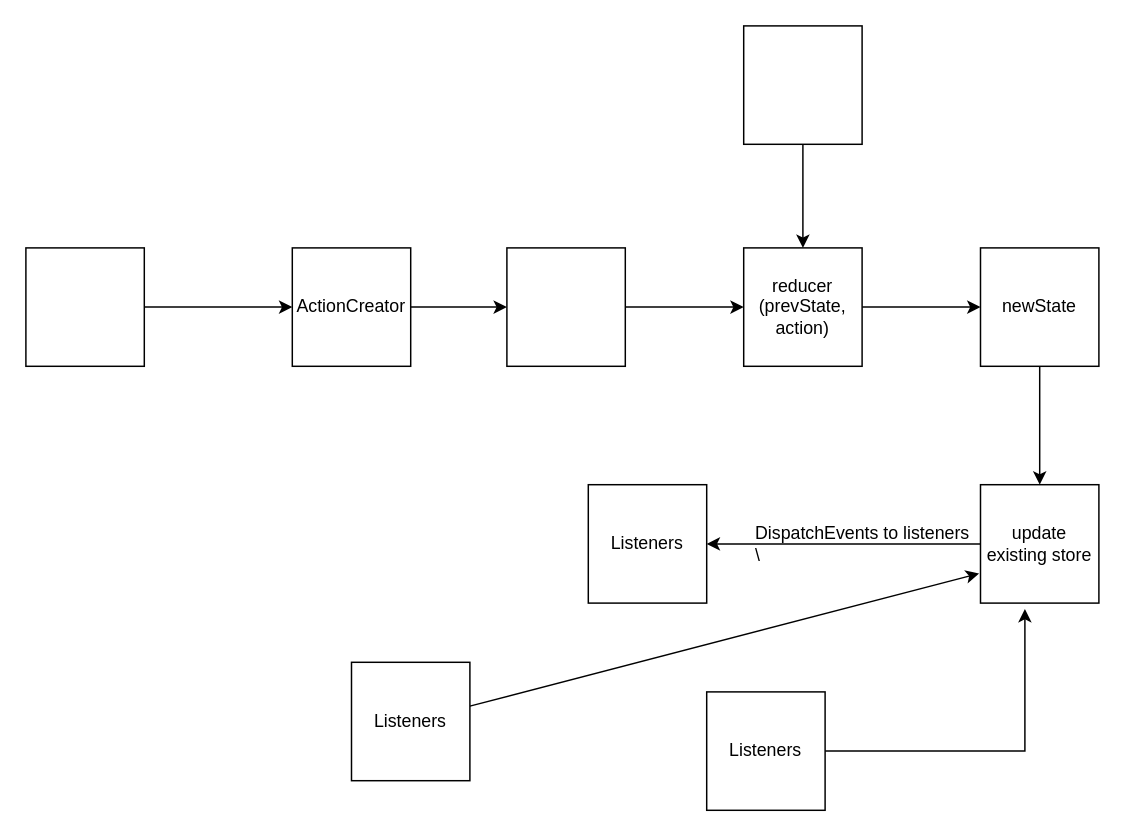
Image size: 1125x836. Some labels were removed from this diagram. The centre of each missing label's shape, as x and y in pixels:
"Action" belongs at [84,306].
"dispatch" belongs at [565,306].
"store" belongs at [802,84].
